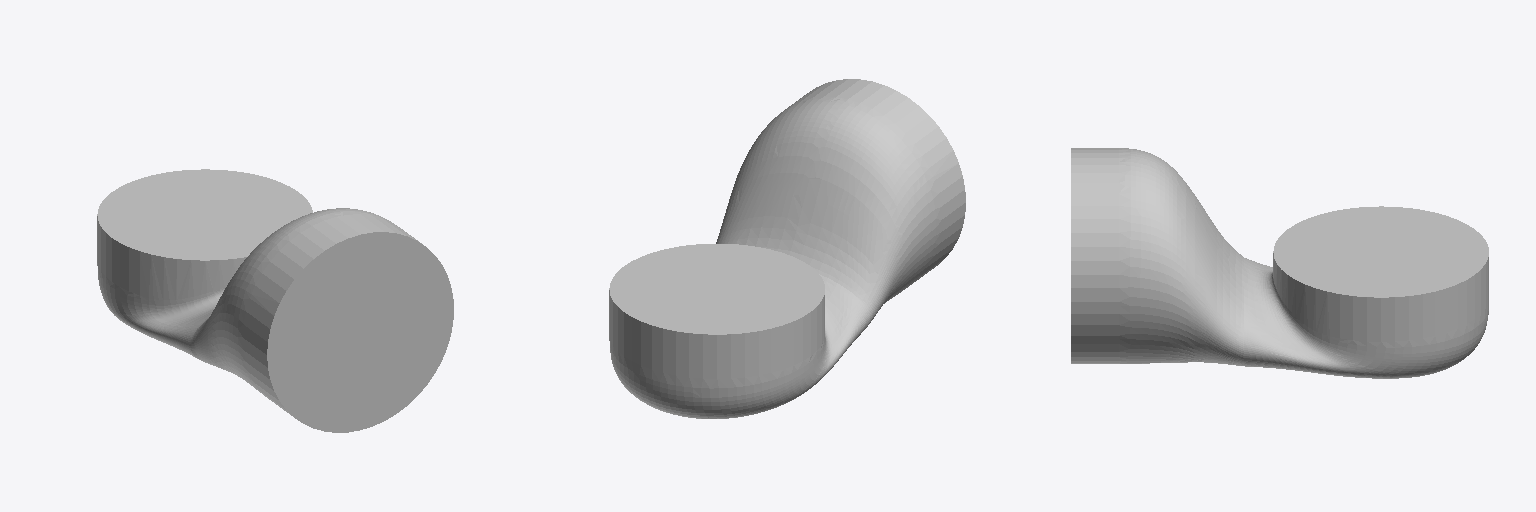
The model's file is j2n6s300_link_1_visuals_mesh_0.obj.
3 views of the same model, side by side, from view 1: azimuth 30°, elevation 25°; view 2: azimuth 150°, elevation 25°; view 3: azimuth 270°, elevation 25° (orthographic).
Bounding box in the file's own units: 0.0825 × 0.0826 × 0.1599.